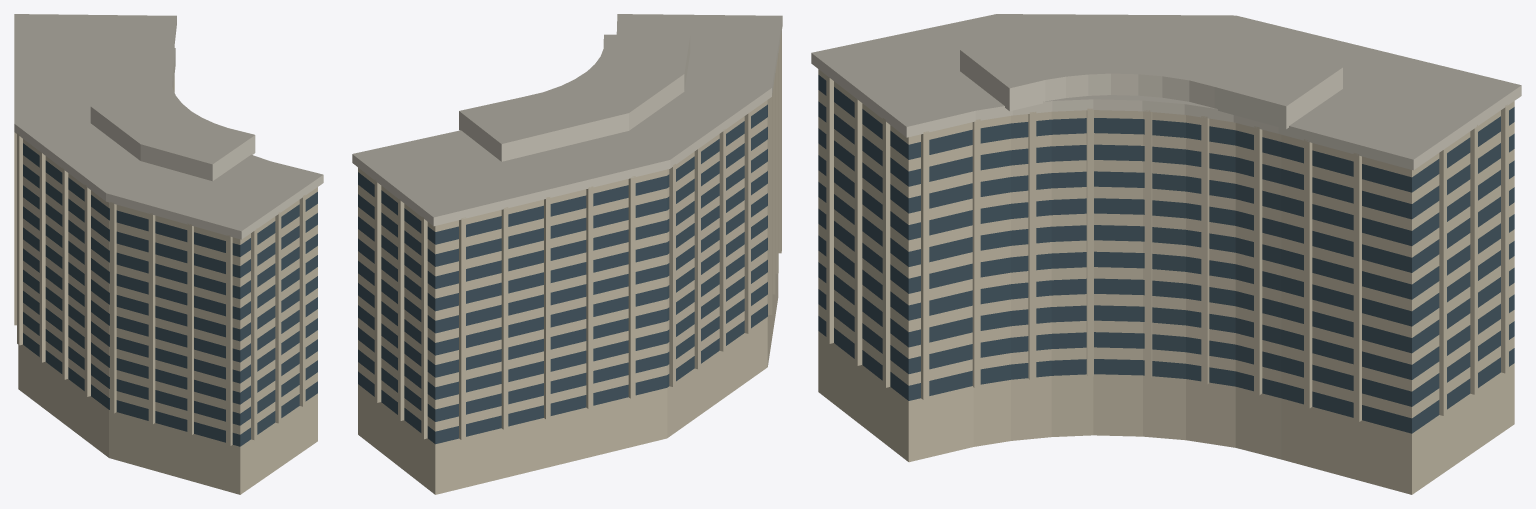
The model's file is julius_tower_extension_w134949101.glb.
3 views of the same model, side by side, from view 1: azimuth 30°, elevation 25°; view 2: azimuth 150°, elevation 25°; view 3: azimuth 270°, elevation 25° (orthographic). The views are drawn at different scales.
Visible parts, largest first — view 1: Julius_Tower_Extension; view 2: Julius_Tower_Extension; view 3: Julius_Tower_Extension.
Part boxes in pixels (x1=…): Julius_Tower_Extension: x1=14, y1=14, x2=323, y2=494; Julius_Tower_Extension: x1=352, y1=14, x2=782, y2=494; Julius_Tower_Extension: x1=811, y1=14, x2=1521, y2=494.
Size of the model in its own units: 40.84 by 47 by 84.14.
